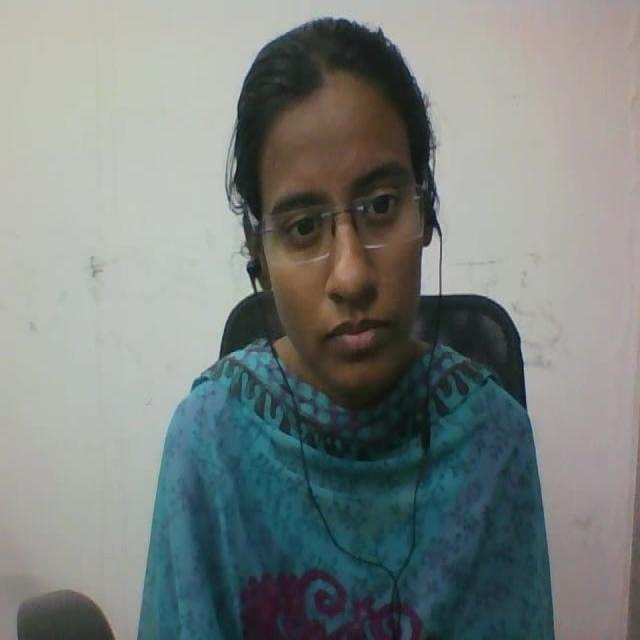Engaged: (204, 3, 470, 411)
